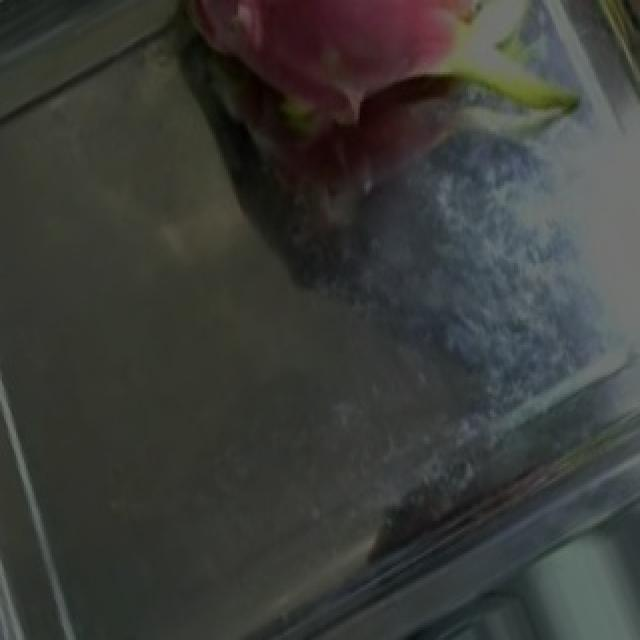fruit: (174, 0, 616, 278)
